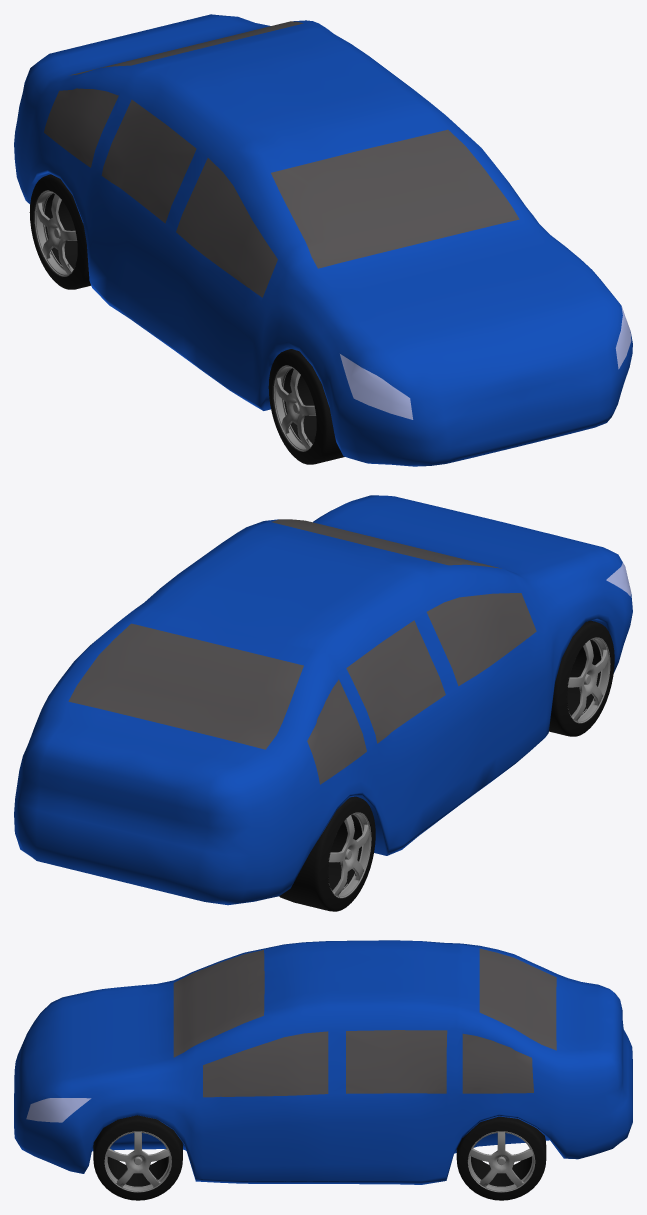
Rendered from Car.fbx.
3 renders of one model, top to bottom at view 1: azimuth 30°, elevation 25°; view 2: azimuth 150°, elevation 25°; view 3: azimuth 270°, elevation 25°, orthographic. The views are drawn at different scales.
Visible parts, largest first — view 1: Car_geo, WheelFrontRight, WheelBackRight; view 2: Car_geo, WheelBackRight, WheelFrontRight; view 3: Car_geo, WheelFrontLeft, WheelBackLeft.
Part boxes in pixels (<box>): Car_geo: <box>14,14,632,466</box>; WheelFrontRight: <box>268,349,344,464</box>; WheelBackRight: <box>29,174,90,289</box>; Car_geo: <box>14,495,632,905</box>; WheelBackRight: <box>279,796,375,911</box>; WheelFrontRight: <box>549,620,614,736</box>; Car_geo: <box>14,940,632,1184</box>; WheelFrontLeft: <box>93,1115,182,1200</box>; WheelBackLeft: <box>456,1116,546,1200</box>.
Bounding box in the file's own units: 212 × 155 × 494.
